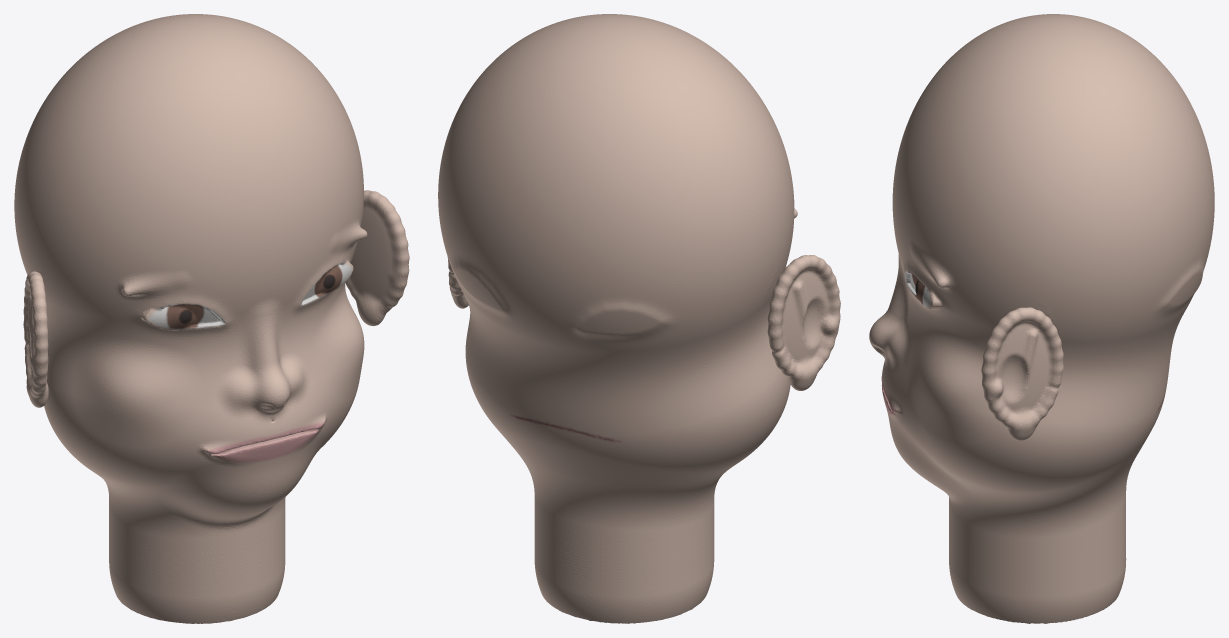
File: karma_face_stage1_J_neutral_EXPERIMENT.glb
The picture shows the model from 3 angles, left to right: view 1: azimuth 30°, elevation 25°; view 2: azimuth 150°, elevation 25°; view 3: azimuth 270°, elevation 25°; orthographic projection.
Visible parts, largest first — view 1: head; view 2: head; view 3: head.
Part boxes in pixels (<box>): head: <box>14,14,409,623</box>; head: <box>438,14,840,623</box>; head: <box>869,14,1214,623</box>.
Size of the model in its own units: 2.7 by 3.83 by 2.15.
